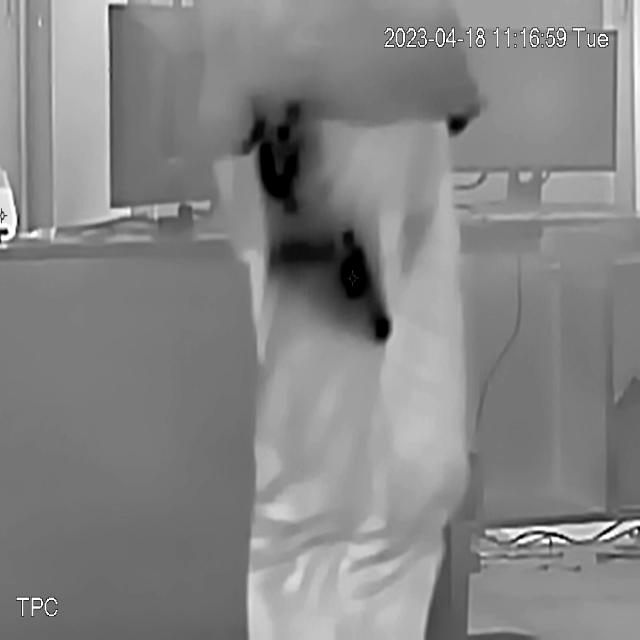Weapon: (258, 226, 414, 362)
